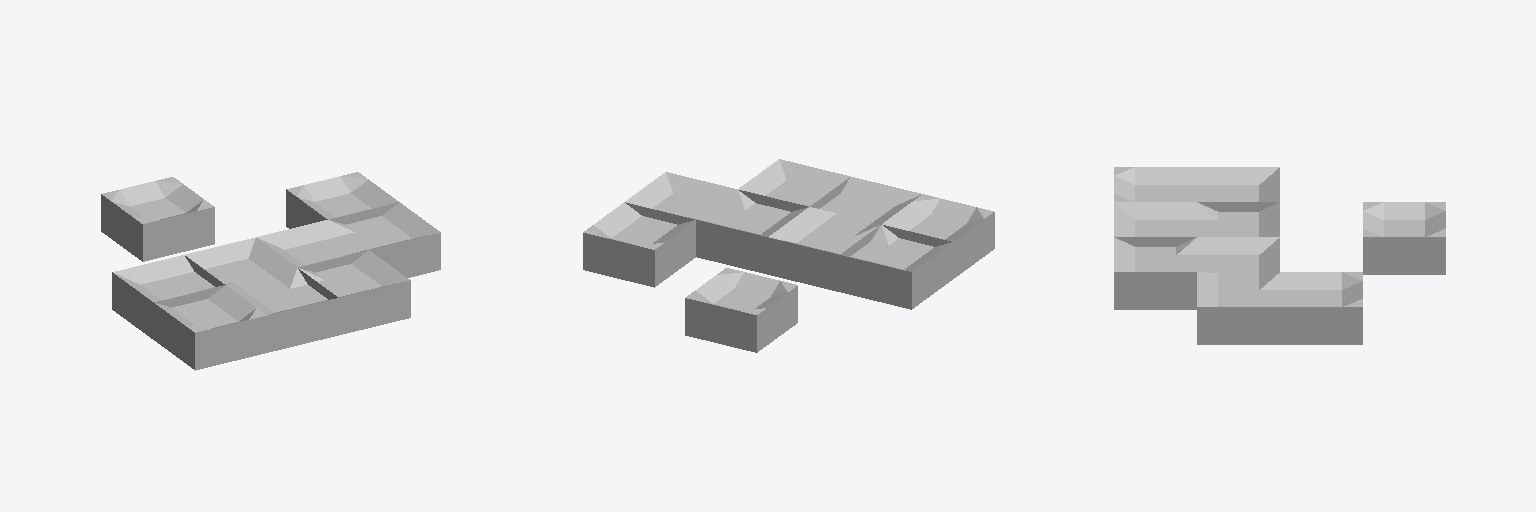
Rendered from 49s_path.obj.
3 views of the same model, side by side, from view 1: azimuth 30°, elevation 25°; view 2: azimuth 150°, elevation 25°; view 3: azimuth 270°, elevation 25° (orthographic).
Visible parts, largest first — view 1: hole.1.3_Cube.248, ending.0.0_ending.493, corner.2.0_corner.1219, corner.3.1_corner.1221, corner.1.0_corner.1217, corner.0.1_corner.1216, ending.3.2_ending.494, corner.1.1_corner.1218, corner.2.1_corner.1220; view 2: hole.1.3_Cube.248, corner.0.1_corner.1216, ending.3.2_ending.494, corner.1.1_corner.1218, corner.2.1_corner.1220, ending.0.0_ending.493, corner.3.1_corner.1221, corner.1.0_corner.1217, corner.2.0_corner.1219; view 3: hole.1.3_Cube.248, ending.3.2_ending.494, corner.2.0_corner.1219, corner.3.1_corner.1221, corner.2.1_corner.1220, corner.1.0_corner.1217, ending.0.0_ending.493, corner.0.1_corner.1216, corner.1.1_corner.1218.
Boxes of the visible parts, <box> form: hole.1.3_Cube.248: <box>101,177,214,261</box>; ending.0.0_ending.493: <box>154,285,266,370</box>; corner.2.0_corner.1219: <box>298,250,410,334</box>; corner.3.1_corner.1221: <box>328,202,440,277</box>; corner.1.0_corner.1217: <box>226,268,338,352</box>; corner.0.1_corner.1216: <box>112,255,224,339</box>; ending.3.2_ending.494: <box>286,172,398,228</box>; corner.1.1_corner.1218: <box>185,237,296,289</box>; corner.2.1_corner.1220: <box>256,220,367,271</box>; hole.1.3_Cube.248: <box>685,268,797,352</box>; corner.0.1_corner.1216: <box>840,224,952,309</box>; ending.3.2_ending.494: <box>583,202,695,287</box>; corner.1.1_corner.1218: <box>768,207,880,291</box>; corner.2.1_corner.1220: <box>696,190,808,274</box>; ending.0.0_ending.493: <box>882,194,994,278</box>; corner.3.1_corner.1221: <box>625,172,737,224</box>; corner.1.0_corner.1217: <box>810,177,921,228</box>; corner.2.0_corner.1219: <box>738,159,850,211</box>; hole.1.3_Cube.248: <box>1363,202,1445,274</box>; ending.3.2_ending.494: <box>1280,272,1362,344</box>; corner.2.0_corner.1219: <box>1114,237,1196,309</box>; corner.3.1_corner.1221: <box>1197,272,1279,344</box>; corner.2.1_corner.1220: <box>1197,237,1279,281</box>; corner.1.0_corner.1217: <box>1114,202,1196,246</box>; ending.0.0_ending.493: <box>1114,167,1196,201</box>; corner.0.1_corner.1216: <box>1197,167,1279,201</box>; corner.1.1_corner.1218: <box>1197,202,1279,236</box>.
Size of the model in its own units: 8 by 1 by 8.